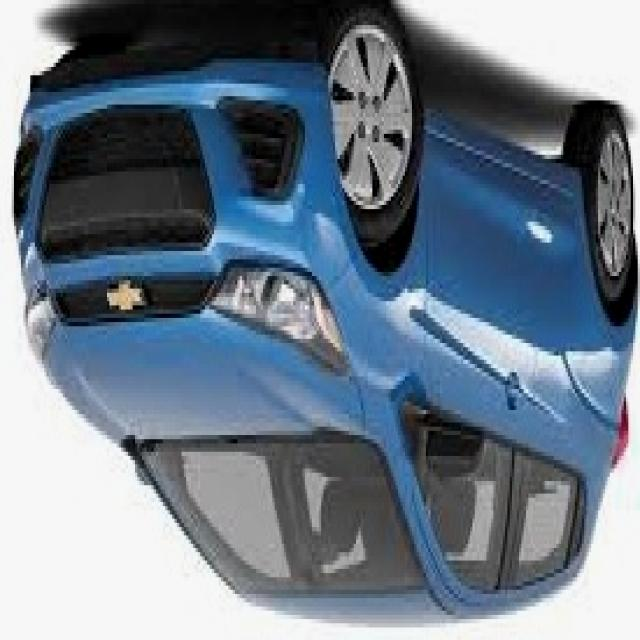blue: (18, 0, 640, 615)
